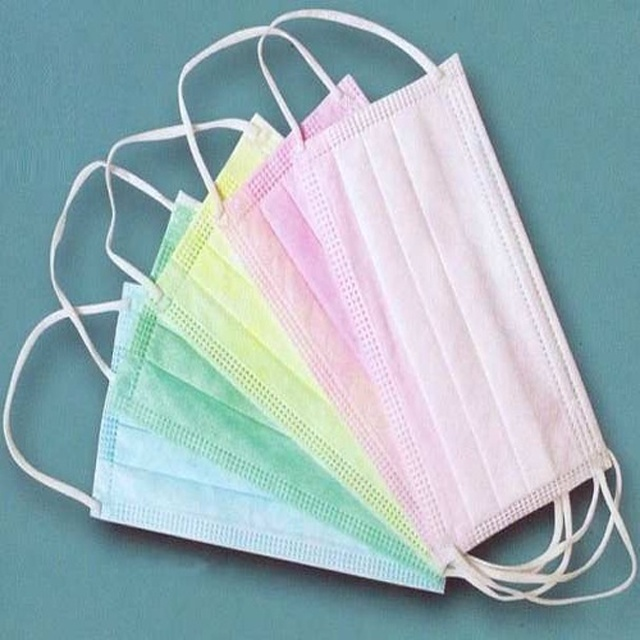mask: (177, 23, 633, 601), (259, 8, 625, 586), (3, 279, 449, 596)
